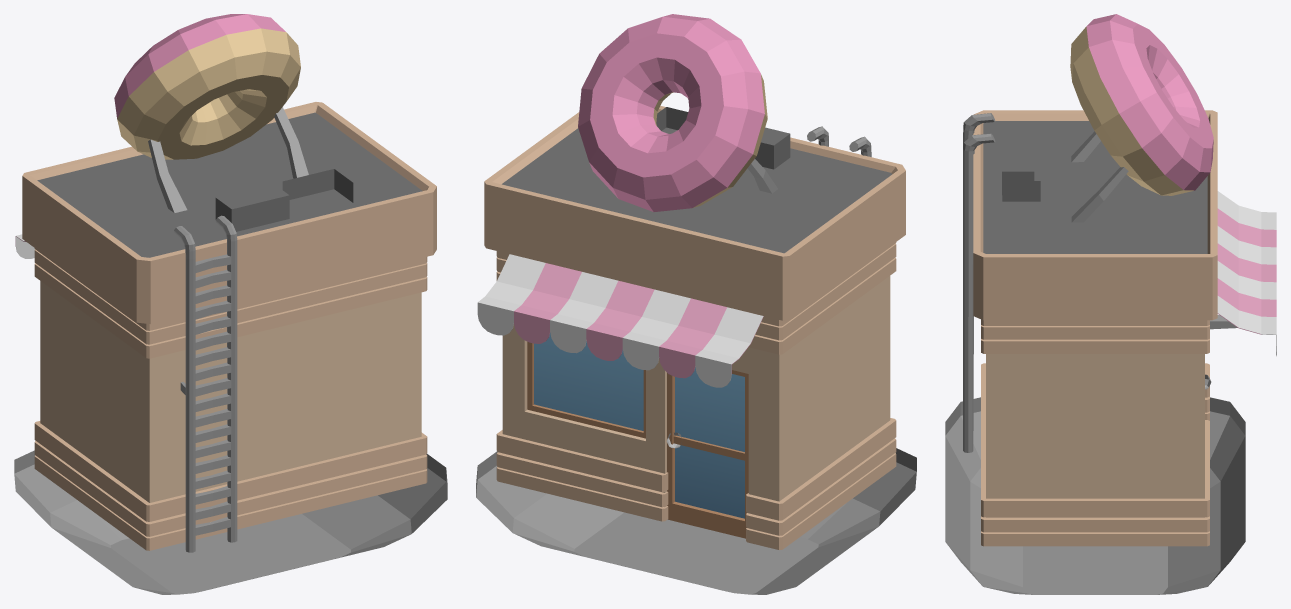
The model's file is Donut Store.glb.
3 views of the same model, side by side, from view 1: azimuth 30°, elevation 25°; view 2: azimuth 150°, elevation 25°; view 3: azimuth 270°, elevation 25° (orthographic).
Parts seen in each view (by area): view 1: Cube.003_Cube.006, Cube, Cube.007_Cube.011, Torus, Cylinder, Cube.008_Cube.001, Cube.006_Cube.010; view 2: Cube.003_Cube.006, Cube, Torus, Cube.007_Cube.011, Cube.004_Cube.008, Cube.001_Cube.004, Cube.002_Cube.003, Cube.008_Cube.001, Cylinder; view 3: Cube.003_Cube.006, Cube, Cube.007_Cube.011, Torus, Cube.004_Cube.008, Cylinder, Cube.008_Cube.001, Cube.006_Cube.010.
Part boxes in pixels (<box>): Cube.003_Cube.006: <box>22,102,436,550</box>; Cube: <box>40,281,421,502</box>; Cube.007_Cube.011: <box>14,450,447,594</box>; Torus: <box>114,14,300,159</box>; Cylinder: <box>174,215,237,552</box>; Cube.008_Cube.001: <box>215,169,353,231</box>; Cube.006_Cube.010: <box>148,107,308,213</box>; Cube.003_Cube.006: <box>484,106,905,549</box>; Cube: <box>502,276,890,506</box>; Torus: <box>578,14,767,211</box>; Cube.007_Cube.011: <box>476,448,916,594</box>; Cube.004_Cube.008: <box>477,254,763,387</box>; Cube.001_Cube.004: <box>534,332,744,518</box>; Cube.002_Cube.003: <box>527,341,748,538</box>; Cube.008_Cube.001: <box>656,107,790,169</box>; Cylinder: <box>807,126,871,156</box>; Cube.003_Cube.006: <box>973,110,1217,546</box>; Cube: <box>986,354,1204,517</box>; Cube.007_Cube.011: <box>945,397,1245,594</box>; Torus: <box>1070,14,1213,195</box>; Cube.004_Cube.008: <box>1217,191,1276,356</box>; Cylinder: <box>963,113,995,452</box>; Cube.008_Cube.001: <box>1002,143,1040,201</box>; Cube.006_Cube.010: <box>1071,131,1128,222</box>.
Size of the model in its own units: 3.18 by 4.8 by 2.74.
Materials: 14 (1 with a texture image).
